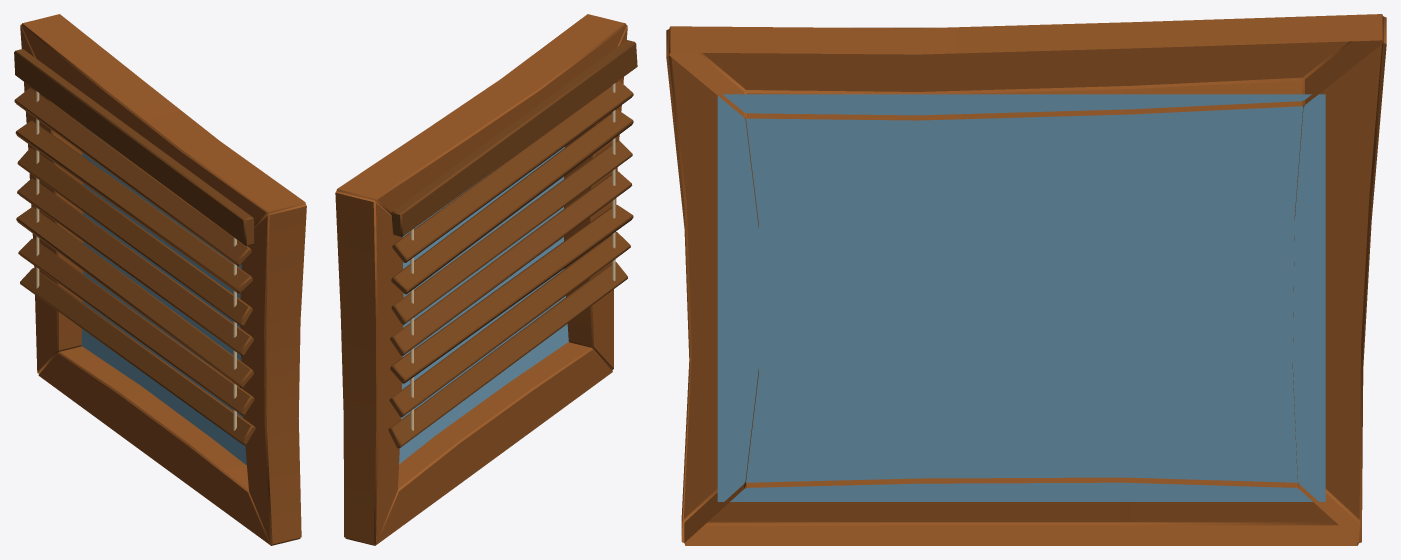
File: Window.fbx
3 renders of one model, left to right at view 1: azimuth 30°, elevation 25°; view 2: azimuth 150°, elevation 25°; view 3: azimuth 270°, elevation 25°, orthographic. The views are drawn at different scales.
Parts seen in each view (by area): view 1: Window; view 2: Window; view 3: Window.
Part boxes in pixels (bbox=[...]): Window: bbox=[14, 14, 306, 545]; Window: bbox=[335, 14, 637, 545]; Window: bbox=[666, 14, 1386, 545].
Bounding box in the file's own units: 0.1797 × 1.04 × 1.34.
